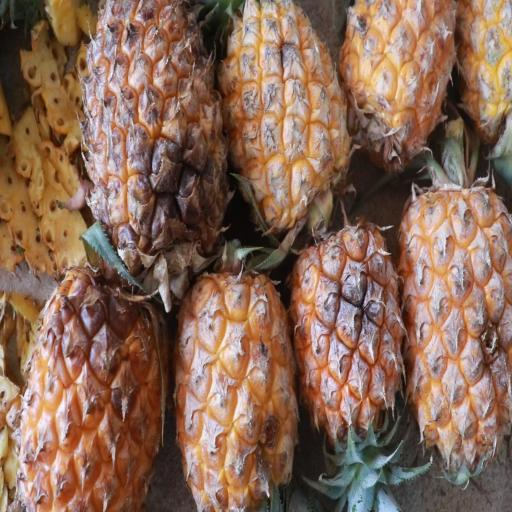Pineapple - v8 v1: (16, 248, 168, 512), (74, 3, 228, 262), (399, 165, 511, 484), (170, 249, 302, 512), (218, 0, 355, 232), (286, 216, 404, 446), (334, 0, 454, 172)
